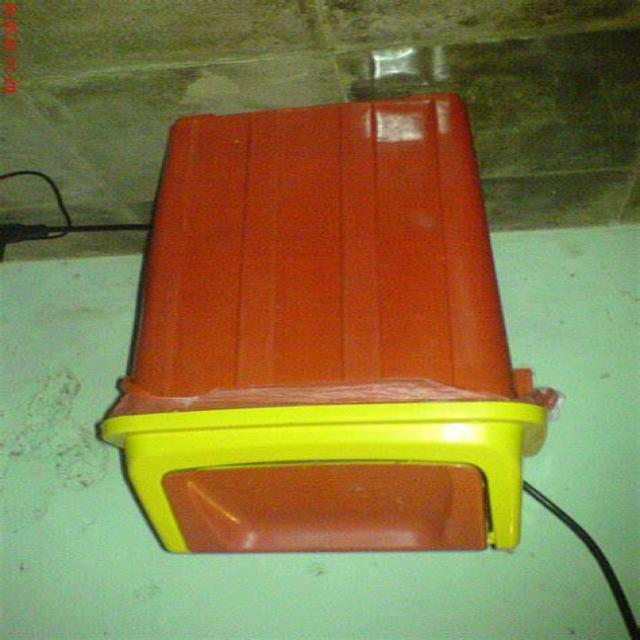garbage container: (121, 80, 560, 579)
